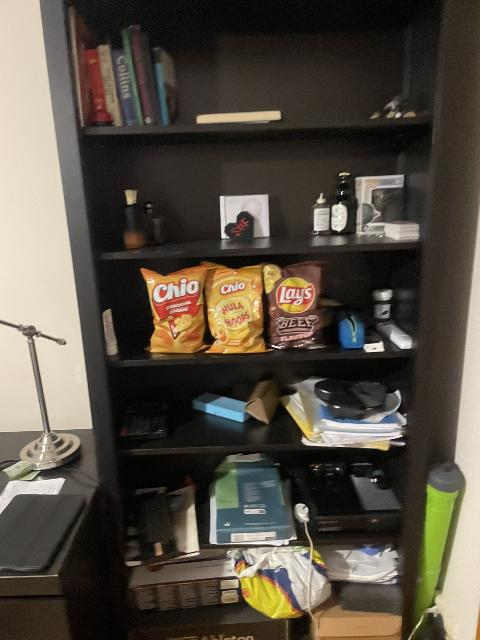Chio Cascaval 125g: (139, 265, 212, 354)
Chio Hula Hoops Cheese 70g: (201, 262, 270, 354)
Lays Beef Grilled Ribs 125g: (263, 260, 328, 349)
